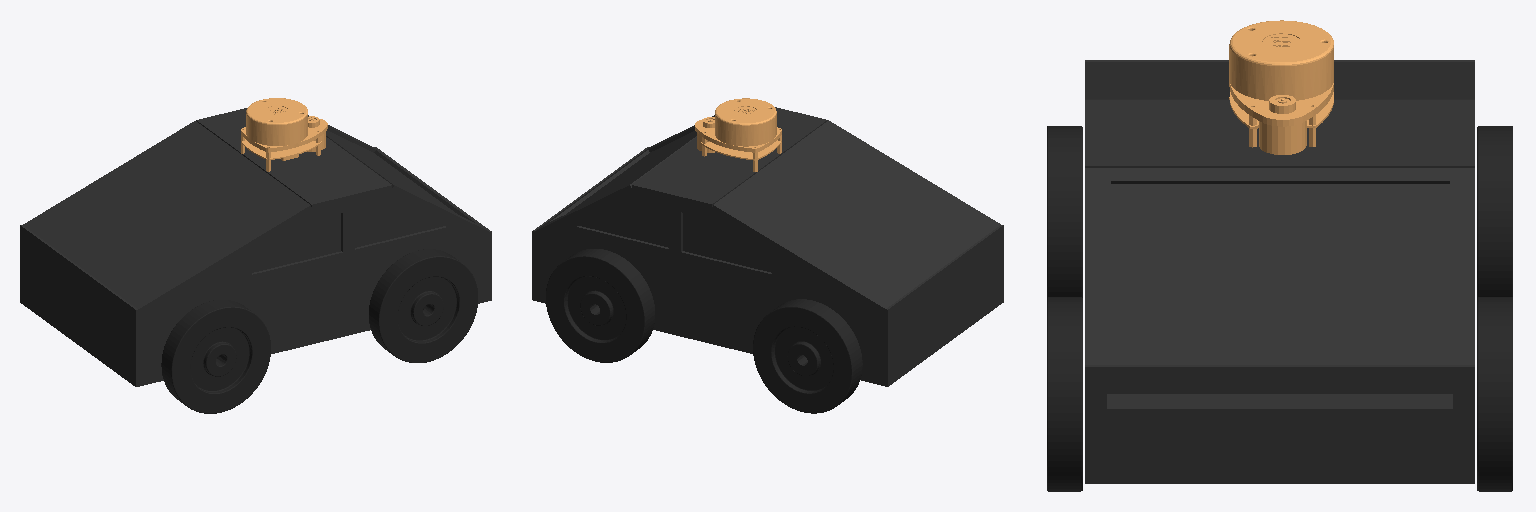
The robot description file, URDF, robot "cybertruck":
<?xml version="1.0" encoding="utf-8"?>
<robot name="cybertruck">

  <!-- ══════════════════════════════════════════════════════════════════ -->
  <!-- BASE LINK - مركز الروبوت                                           -->
  <!-- ══════════════════════════════════════════════════════════════════ -->
  <link name="base_link">
    <inertial>
      <origin xyz="-0.0379982684310929 -0.00110022256685266 0.00198599551633491" rpy="0 0 0"/>
      <mass value="2.09976516272309"/>
      <inertia
        ixx="0.0126086448441908" ixy="-5.89895937514638E-11" ixz="-0.000272982789996325"
        iyy="0.0301039790905408" iyz="-4.64608612399327E-18"
        izz="0.0403116330847329"/>
    </inertial>
    <visual>
      <origin xyz="0 0 0" rpy="0 0 0"/>
      <geometry>
        <mesh filename="package://cybertruck_description/models/cybertruck/meshes/base_link.STL"/>
      </geometry>
      <material name="grey">
        <color rgba="0.250980392156863 0.250980392156863 0.250980392156863 1"/>
      </material>
    </visual>
    <collision>
      <origin xyz="0 0 0" rpy="0 0 0"/>
      <geometry>
        <mesh filename="package://cybertruck_description/models/cybertruck/meshes/base_link.STL"/>
      </geometry>
    </collision>
  </link>

  <!-- ══════════════════════════════════════════════════════════════════ -->
  <!-- BASE FOOTPRINT - نقطة على الأرض تحت الروبوت                        -->
  <!-- ══════════════════════════════════════════════════════════════════ -->
  <link name="base_footprint"/>
  
  <joint name="base_footprint_joint" type="fixed">
    <parent link="base_link"/>
    <child link="base_footprint"/>
    <origin xyz="0 0 -0.034" rpy="0 0 0"/>
    <!-- z = -0.034 (نفس ارتفاع العجلات السالب = على الأرض) -->
  </joint>

  <!-- ══════════════════════════════════════════════════════════════════ -->
  <!-- FRONT RIGHT WHEEL                                                  -->
  <!-- ══════════════════════════════════════════════════════════════════ -->
  <link name="F_RIGHT">
    <inertial>
      <origin xyz="0 0.011 0" rpy="0 0 0"/>
      <mass value="1.91302130627162"/>
      <inertia
        ixx="0.00230547150482197" ixy="0" ixz="0"
        iyy="0.00445088636326488" iyz="0"
        izz="0.00230547150482197"/>
    </inertial>
    <visual>
      <origin xyz="0 0 0" rpy="0 0 0"/>
      <geometry>
        <mesh filename="package://cybertruck_description/models/cybertruck/meshes/F_RIGHT.STL"/>
      </geometry>
      <material name="black">
        <color rgba="0.2 0.2 0.2 1"/>
      </material>
    </visual>
    <collision>
      <origin xyz="0 0 0" rpy="0 0 0"/>
      <geometry>
        <mesh filename="package://cybertruck_description/models/cybertruck/meshes/F_RIGHT.STL"/>
      </geometry>
    </collision>
  </link>

  <joint name="F_RIGHT_joint" type="continuous">
    <origin xyz="0.099 -0.156 -0.034" rpy="0 0 0"/>
    <parent link="base_link"/>
    <child link="F_RIGHT"/>
    <axis xyz="0 1 0"/>
    <dynamics damping="0.1" friction="0.1"/>
  </joint>

  <!-- ══════════════════════════════════════════════════════════════════ -->
  <!-- BACK RIGHT WHEEL                                                   -->
  <!-- ══════════════════════════════════════════════════════════════════ -->
  <link name="B_RIGHT">
    <inertial>
      <origin xyz="0 0.011 0" rpy="0 0 0"/>
      <mass value="1.91302130627162"/>
      <inertia
        ixx="0.00230547150482197" ixy="0" ixz="0"
        iyy="0.00445088636326488" iyz="0"
        izz="0.00230547150482197"/>
    </inertial>
    <visual>
      <origin xyz="0 0 0" rpy="0 0 0"/>
      <geometry>
        <mesh filename="package://cybertruck_description/models/cybertruck/meshes/B_RIGHT.STL"/>
      </geometry>
      <material name="black">
        <color rgba="0.2 0.2 0.2 1"/>
      </material>
    </visual>
    <collision>
      <origin xyz="0 0 0" rpy="0 0 0"/>
      <geometry>
        <mesh filename="package://cybertruck_description/models/cybertruck/meshes/B_RIGHT.STL"/>
      </geometry>
    </collision>
  </link>

  <joint name="B_RIGHT_joint" type="continuous">
    <origin xyz="-0.171 -0.156 -0.034" rpy="0 0 0"/>
    <parent link="base_link"/>
    <child link="B_RIGHT"/>
    <axis xyz="0 1 0"/>
    <dynamics damping="0.1" friction="0.1"/>
  </joint>

  <!-- ══════════════════════════════════════════════════════════════════ -->
  <!-- BACK LEFT WHEEL                                                    -->
  <!-- ══════════════════════════════════════════════════════════════════ -->
  <link name="B_LEFT">
    <inertial>
      <origin xyz="0 -0.0005 0" rpy="0 0 0"/>
      <mass value="1.91302130627162"/>
      <inertia
        ixx="0.00230547150482197" ixy="0" ixz="0"
        iyy="0.00445088636326488" iyz="0"
        izz="0.00230547150482197"/>
    </inertial>
    <visual>
      <origin xyz="0 0 0" rpy="0 0 0"/>
      <geometry>
        <mesh filename="package://cybertruck_description/models/cybertruck/meshes/B_LEFT.STL"/>
      </geometry>
      <material name="black">
        <color rgba="0.2 0.2 0.2 1"/>
      </material>
    </visual>
    <collision>
      <origin xyz="0 0 0" rpy="0 0 0"/>
      <geometry>
        <mesh filename="package://cybertruck_description/models/cybertruck/meshes/B_LEFT.STL"/>
      </geometry>
    </collision>
  </link>

  <joint name="B_LEFT_joint" type="continuous">
    <origin xyz="-0.171 0.143 -0.034" rpy="0 0 0"/>
    <parent link="base_link"/>
    <child link="B_LEFT"/>
    <axis xyz="0 1 0"/>
    <dynamics damping="0.1" friction="0.1"/>
  </joint>

  <!-- ══════════════════════════════════════════════════════════════════ -->
  <!-- FRONT LEFT WHEEL                                                   -->
  <!-- ══════════════════════════════════════════════════════════════════ -->
  <link name="F_LEFT">
    <inertial>
      <origin xyz="0.007 -0.0005 0" rpy="0 0 0"/>
      <mass value="1.91302130627162"/>
      <inertia
        ixx="0.00230547150482197" ixy="0" ixz="0"
        iyy="0.00445088636326488" iyz="0"
        izz="0.00230547150482197"/>
    </inertial>
    <visual>
      <origin xyz="0 0 0" rpy="0 0 0"/>
      <geometry>
        <mesh filename="package://cybertruck_description/models/cybertruck/meshes/F_LEFT.STL"/>
      </geometry>
      <material name="black">
        <color rgba="0.2 0.2 0.2 1"/>
      </material>
    </visual>
    <collision>
      <origin xyz="0 0 0" rpy="0 0 0"/>
      <geometry>
        <mesh filename="package://cybertruck_description/models/cybertruck/meshes/F_LEFT.STL"/>
      </geometry>
    </collision>
  </link>

  <joint name="F_LEFT_joint" type="continuous">
    <origin xyz="0.092 0.143 -0.034" rpy="0 0 0"/>
    <parent link="base_link"/>
    <child link="F_LEFT"/>
    <axis xyz="0 1 0"/>
    <dynamics damping="0.1" friction="0.1"/>
  </joint>

  <!-- ══════════════════════════════════════════════════════════════════ -->
  <!-- LIDAR - المجسم البصري للليدار                                      -->
  <!-- ══════════════════════════════════════════════════════════════════ -->
  <link name="Lidar">
    <inertial>
      <origin xyz="0.007 0 -0.022" rpy="0 0 0"/>
      <mass value="0.1"/>
      <inertia
        ixx="0.0001" ixy="0" ixz="0"
        iyy="0.0001" iyz="0"
        izz="0.0001"/>
    </inertial>
    <visual>
      <origin xyz="0 0 0" rpy="0 0 0"/>
      <geometry>
        <mesh filename="package://cybertruck_description/models/cybertruck/meshes/Lidae.STL"/>
      </geometry>
      <material name="orange">
        <color rgba="0.984313725490196 0.737254901960784 0.466666666666667 1"/>
      </material>
    </visual>
    <collision>
      <origin xyz="0 0 0" rpy="0 0 0"/>
      <geometry>
        <cylinder radius="0.05" length="0.07"/>
      </geometry>
    </collision>
  </link>

  <joint name="Lidar_joint" type="fixed">
    <parent link="base_link"/>
    <child link="Lidar"/>
    <origin xyz="-0.008 0.0 0.176" rpy="0 0 0"/>
    <!--          │     │    │
                  │     │    └── فوق المركز بـ 17.6 سم
                  │     └─────── في النص
                  └──────────── ورا المركز بـ 8 مم
    -->
  </joint>

  <!-- ══════════════════════════════════════════════════════════════════ -->
  <!-- LASER FRAME - نقطة خروج شعاع الليزر (مهم جداً للـ SLAM!)           -->
  <!-- ══════════════════════════════════════════════════════════════════ -->
  <link name="laser_frame"/>
  
  <joint name="laser_frame_joint" type="fixed">
    <parent link="Lidar"/>
    <child link="laser_frame"/>
    <origin xyz="0 0 0.02" rpy="0 0 0"/>
    <!--              │
                      └── فوق مركز الليدار بـ 2 سم (مكان شعاع الليزر)
    -->
  </joint>

  <!-- ══════════════════════════════════════════════════════════════════ -->
  <!-- IMU LINK - مكان حساس الـ IMU                                       -->
  <!-- غير الأرقام دي حسب مكان الـ IMU الحقيقي على روبوتك                 -->
  <!-- ══════════════════════════════════════════════════════════════════ -->
  <link name="imu_link"/>
  
  <joint name="imu_joint" type="fixed">
    <parent link="base_link"/>
    <child link="imu_link"/>
    <origin xyz="0 0 0.05" rpy="0 0 0"/>
    <!--          │  │   │
                  │  │   └── فوق المركز بـ 5 سم (عدّل حسب مكان الـ IMU عندك)
                  │  └────── في النص
                  └───────── في النص
    -->
  </joint>

</robot>

--- Facts derived from the render (not from the file) ---
Views: 3 orthographic renders of the robot side by side, from view 1: azimuth 30°, elevation 25°; view 2: azimuth 150°, elevation 25°; view 3: azimuth 270°, elevation 25°.
Robot: cybertruck — 9 links, 8 joints (4 continuous, 4 fixed); root link base_link; default pose: every joint at zero.
Links seen in each view (by area): view 1: base_link, B_RIGHT, F_RIGHT, Lidar; view 2: base_link, B_LEFT, F_LEFT, Lidar; view 3: base_link, Lidar, F_RIGHT, F_LEFT, B_RIGHT, B_LEFT.
Link boxes in pixels (x1=…): base_link: x1=20, y1=108, x2=491, y2=386; B_RIGHT: x1=161, y1=300, x2=270, y2=413; F_RIGHT: x1=369, y1=249, x2=477, y2=362; Lidar: x1=241, y1=98, x2=327, y2=171; base_link: x1=532, y1=107, x2=1003, y2=386; B_LEFT: x1=753, y1=299, x2=862, y2=413; F_LEFT: x1=546, y1=249, x2=654, y2=362; Lidar: x1=695, y1=98, x2=781, y2=171; base_link: x1=1085, y1=60, x2=1474, y2=483; Lidar: x1=1229, y1=20, x2=1333, y2=154; F_RIGHT: x1=1047, y1=297, x2=1082, y2=491; F_LEFT: x1=1477, y1=297, x2=1512, y2=491; B_RIGHT: x1=1047, y1=126, x2=1082, y2=297; B_LEFT: x1=1477, y1=126, x2=1512, y2=297.
Bounding box of the posed robot: 0.463 × 0.3115 × 0.275 m (x, y, z).
Meshes: 6 distinct files referenced, 6 mesh visuals loaded (6 binary STL).
